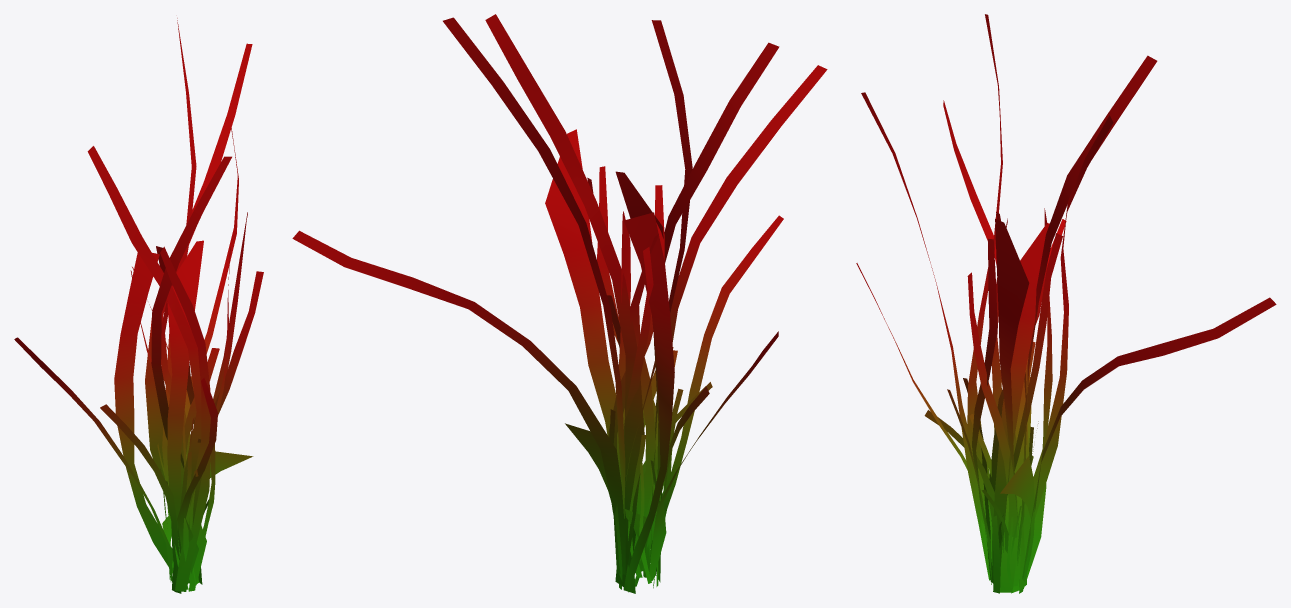
The model's file is Var7_LOD1.fbx.
The picture shows the model from 3 angles, left to right: view 1: azimuth 30°, elevation 25°; view 2: azimuth 150°, elevation 25°; view 3: azimuth 270°, elevation 25°; orthographic projection. The views are drawn at different scales.
Visible parts, largest first — view 1: _8461_Var7_LOD1; view 2: _8461_Var7_LOD1; view 3: _8461_Var7_LOD1.
Boxes of the visible parts, bbox=[...] form: _8461_Var7_LOD1: bbox=[14, 18, 263, 593]; _8461_Var7_LOD1: bbox=[292, 14, 827, 593]; _8461_Var7_LOD1: bbox=[856, 14, 1276, 593].
Bounding box in the file's own units: 30.24 × 47.65 × 32.21.
